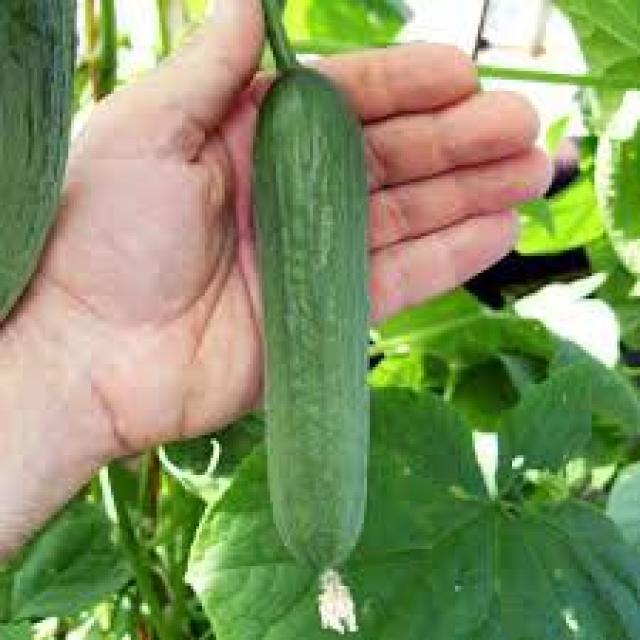cucumber: (255, 64, 366, 564)
